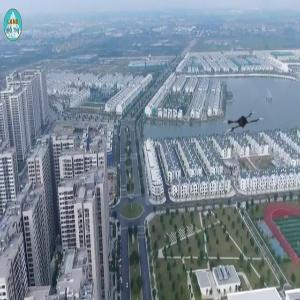drone: (222, 106, 265, 149)
